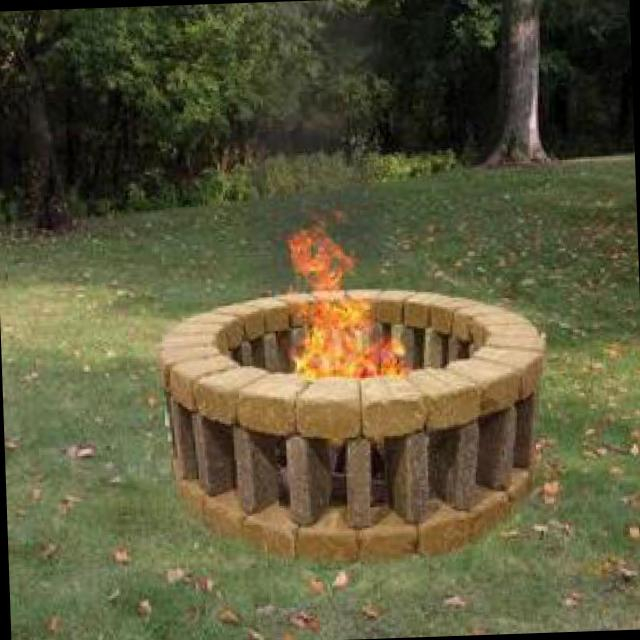fire: (284, 243, 388, 373)
smoke: (269, 160, 381, 244)
